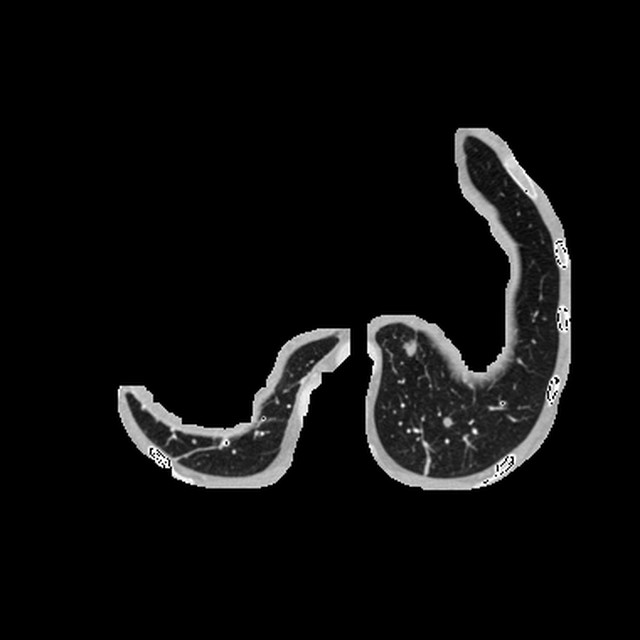PN: (441, 416, 451, 426)
